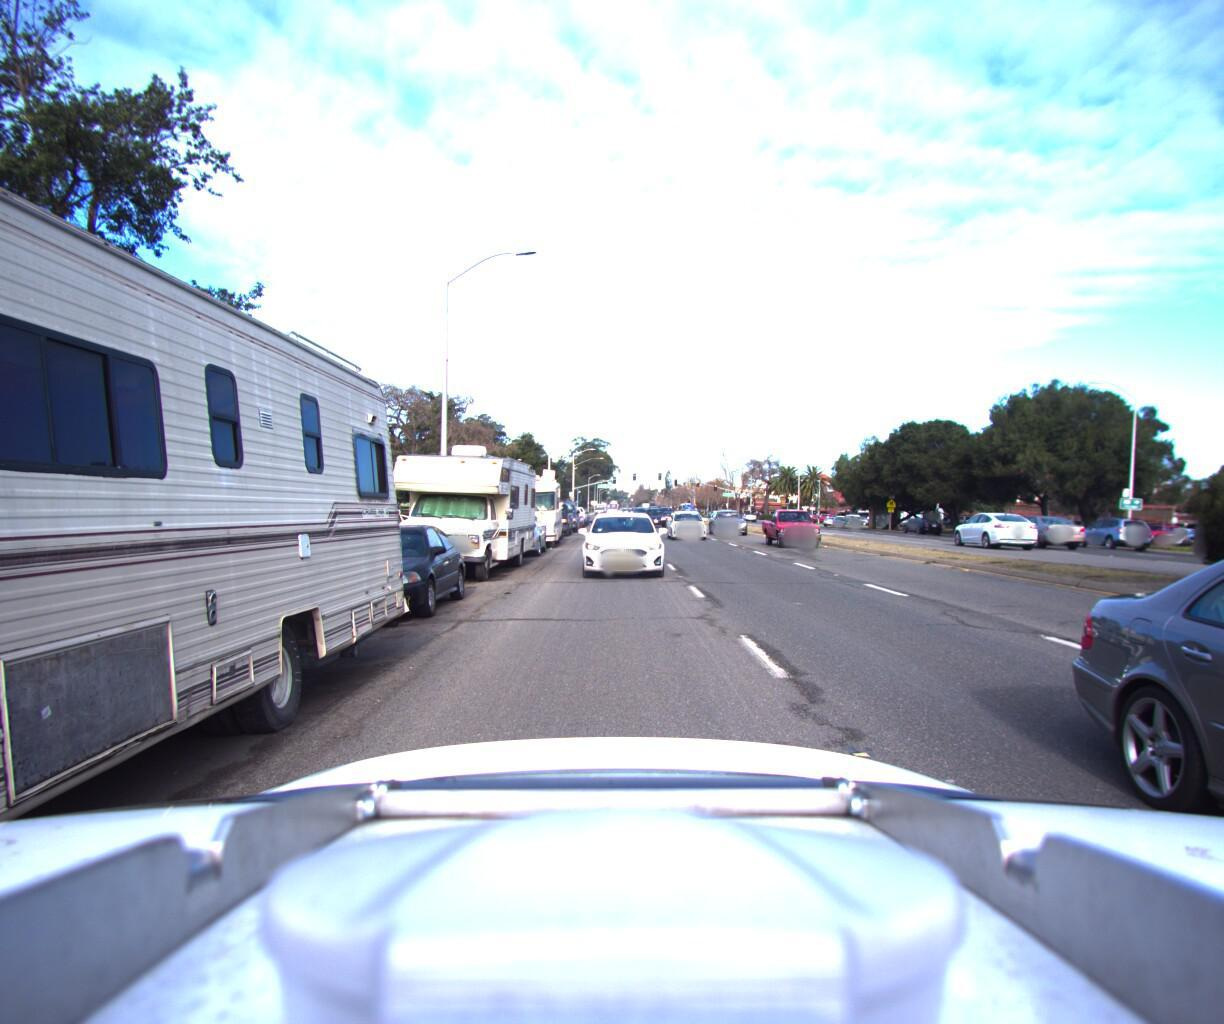car: (282, 517, 474, 626), (578, 505, 665, 576), (477, 506, 547, 555), (942, 510, 1029, 548), (989, 510, 1078, 547), (768, 502, 834, 549), (1066, 513, 1155, 547), (1017, 515, 1087, 541), (529, 495, 571, 535), (666, 505, 709, 537), (542, 494, 578, 530), (711, 504, 755, 532), (897, 513, 941, 532), (599, 502, 625, 523), (647, 509, 671, 529)
other_vehicle: (0, 0, 413, 1024), (374, 427, 540, 585), (489, 459, 562, 547)
